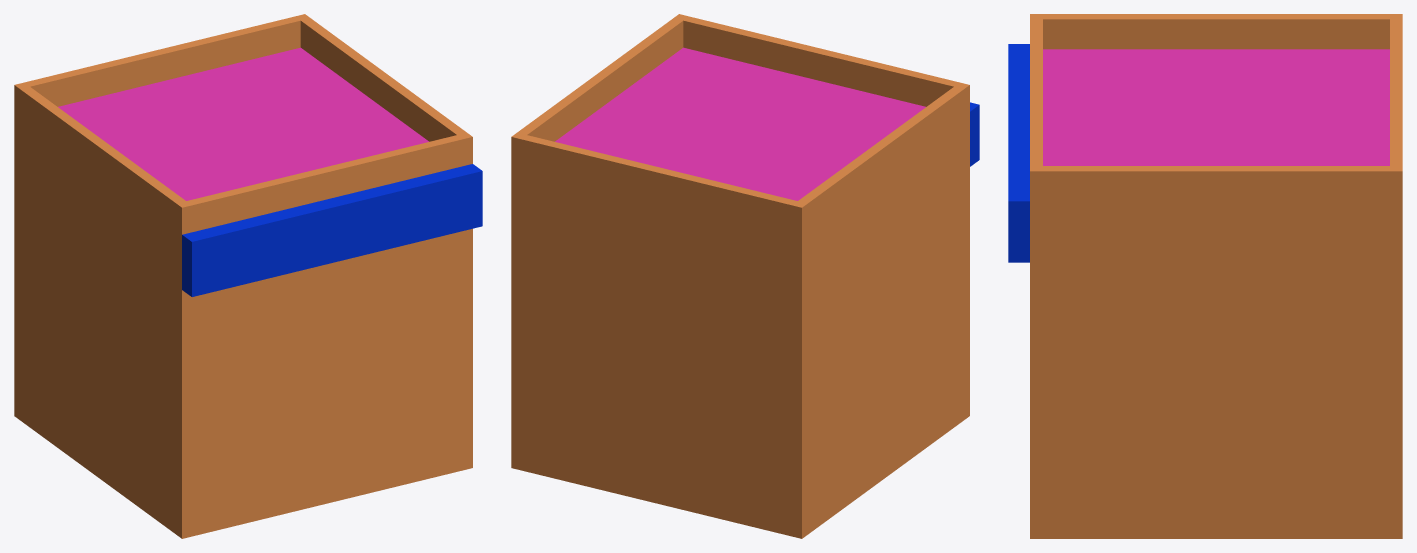
File: ShopWithSign.fbx
3 renders of one model, left to right at view 1: azimuth 30°, elevation 25°; view 2: azimuth 150°, elevation 25°; view 3: azimuth 270°, elevation 25°, orthographic. The views are drawn at different scales.
Visible parts, largest first — view 1: Cube.003; view 2: Cube.003; view 3: Cube.003.
Boxes of the visible parts, box(x1,y1,x2,y2) form: Cube.003: box(14, 14, 482, 538); Cube.003: box(511, 14, 979, 538); Cube.003: box(1008, 14, 1402, 538).
Bounding box in the file's own units: 647 × 705 × 685.
